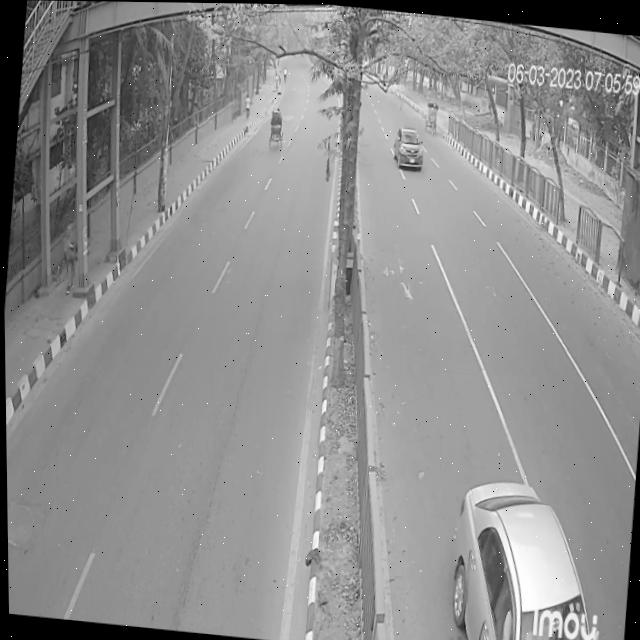rikshaw: (265, 102, 285, 142)
